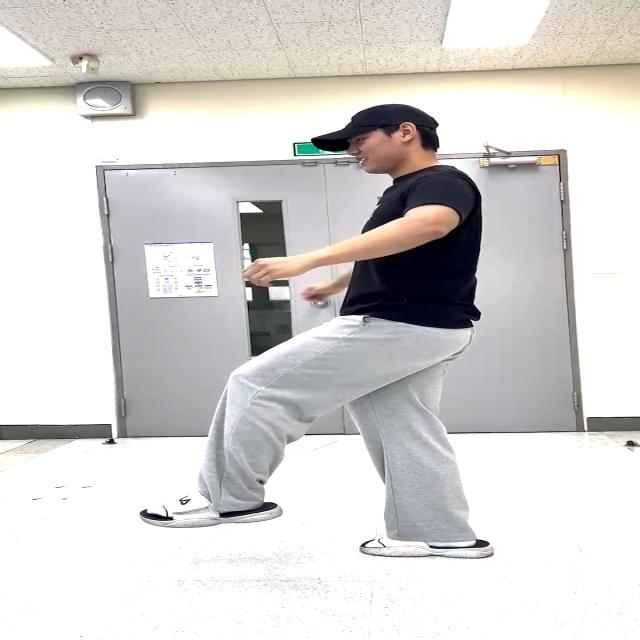leg: (154, 303, 360, 530)
